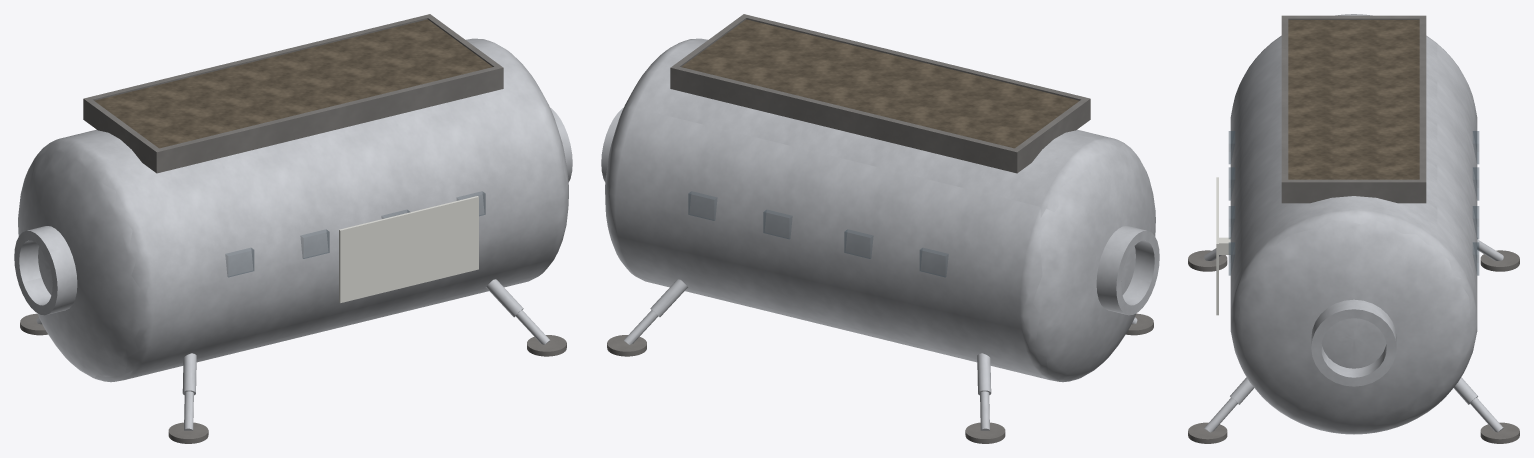
The model's file is rover10_surface_hab_stowed.glb.
The picture shows the model from 3 angles, left to right: view 1: azimuth 30°, elevation 25°; view 2: azimuth 150°, elevation 25°; view 3: azimuth 270°, elevation 25°; orthographic projection.
Parts seen in each view (by area): view 1: hull, regolith_fill, shield_tray, radiator, hatch_collars, leveling_legs, foot_pads, windows; view 2: hull, regolith_fill, shield_tray, hatch_collars, windows, leveling_legs, foot_pads; view 3: hull, regolith_fill, shield_tray, hatch_collars, foot_pads, leveling_legs, windows, radiator.
Boxes of the visible parts, box(x1,y1,x2,y2) form: hull: box(18, 38, 568, 382); regolith_fill: box(94, 19, 492, 148); shield_tray: box(83, 14, 503, 173); radiator: box(339, 196, 478, 303); hatch_collars: box(14, 108, 572, 315); leveling_legs: box(36, 279, 549, 430); foot_pads: box(20, 313, 566, 443); windows: box(225, 191, 485, 277); hull: box(605, 38, 1155, 382); regolith_fill: box(681, 19, 1079, 148); shield_tray: box(670, 14, 1090, 173); hatch_collars: box(601, 108, 1159, 315); windows: box(688, 191, 948, 277); leveling_legs: box(624, 279, 1137, 430); foot_pads: box(607, 313, 1153, 443); hull: box(1230, 14, 1477, 434); regolith_fill: box(1288, 20, 1419, 179); shield_tray: box(1281, 15, 1426, 203); hatch_collars: box(1311, 299, 1396, 386); foot_pads: box(1188, 250, 1519, 443); leveling_legs: box(1204, 238, 1503, 432); windows: box(1228, 131, 1479, 275); radiator: box(1216, 177, 1230, 315).
Size of the model in its own units: 8.91 by 4.21 by 5.05.
Materials: 5 (3 with a texture image).
